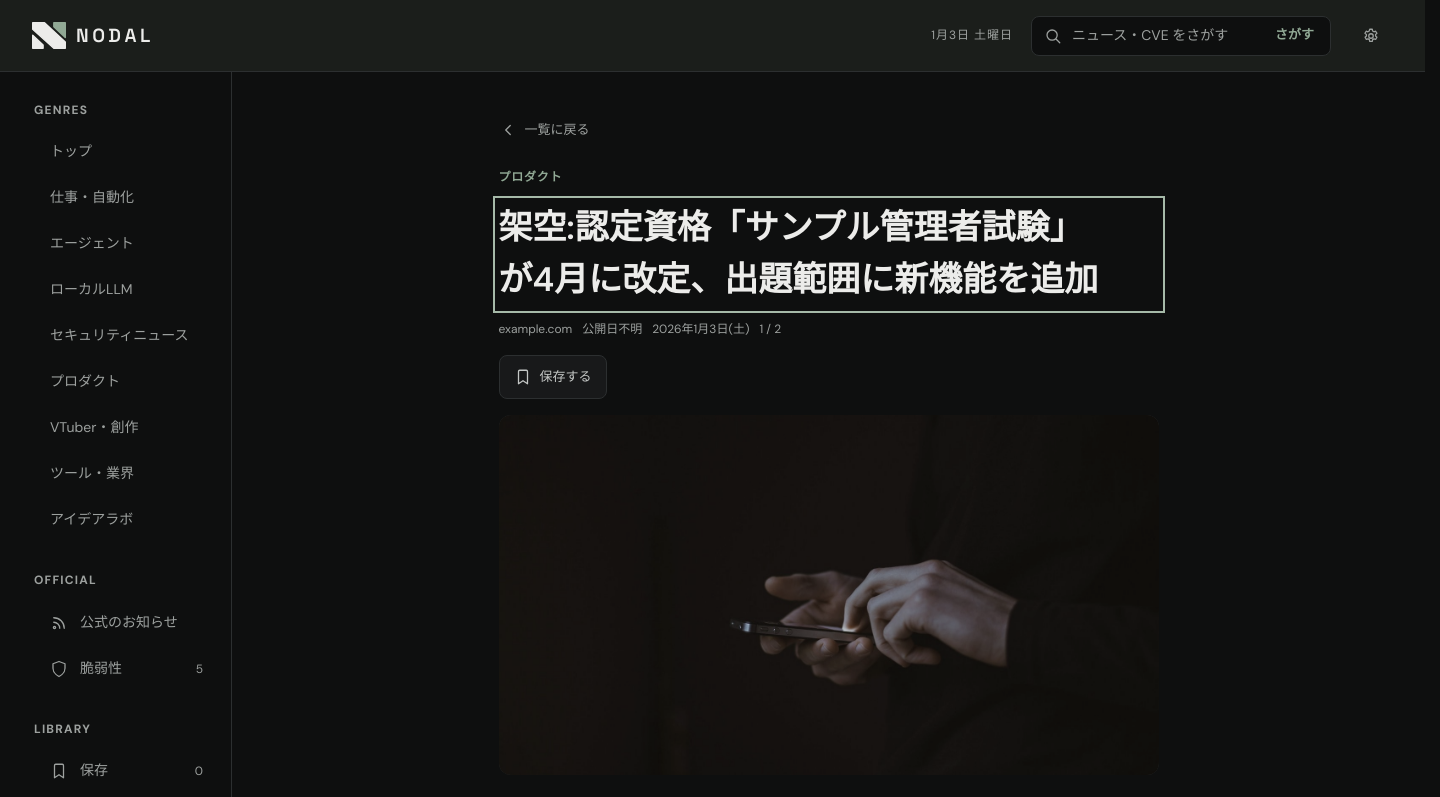
Test: App(骨組み) › ジャンル・絞り込み・詳細・検索語の移動は履歴に積まれ、戻る/進むで 1 つずつ前後の表示に戻る
Later steps or results of the test are not shown.
Expected: the link "一覧に戻る" is shown, top-left (498, 121), bottom-right (590, 139)
Type "CVE" into the dropdown named "検索語".
click(1166, 36); type("CVE")  # box top-left (1070, 23), bottom-right (1263, 48)
Then press Enter
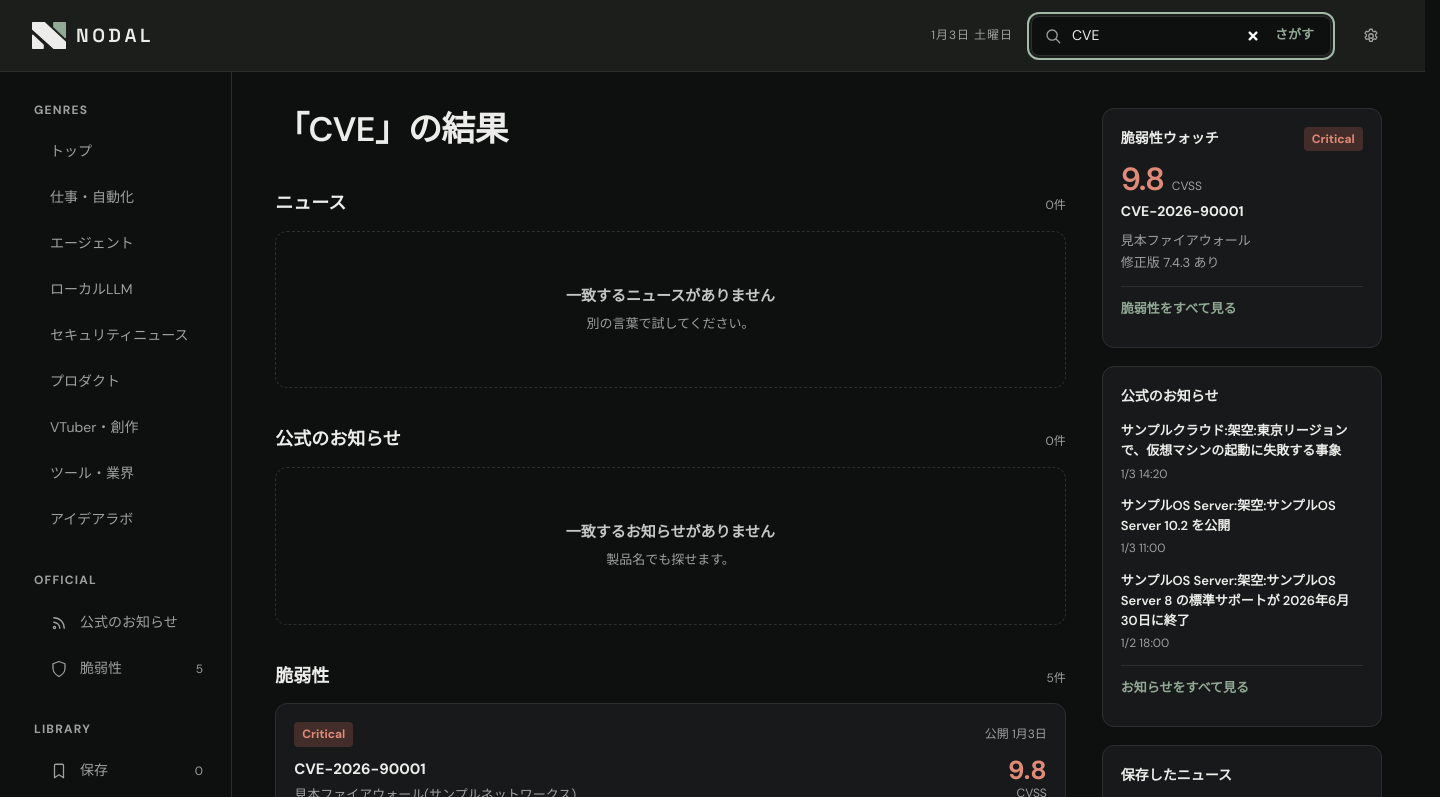
Now the heading "「CVE」の結果" is shown, box top-left (275, 107), bottom-right (508, 152)
